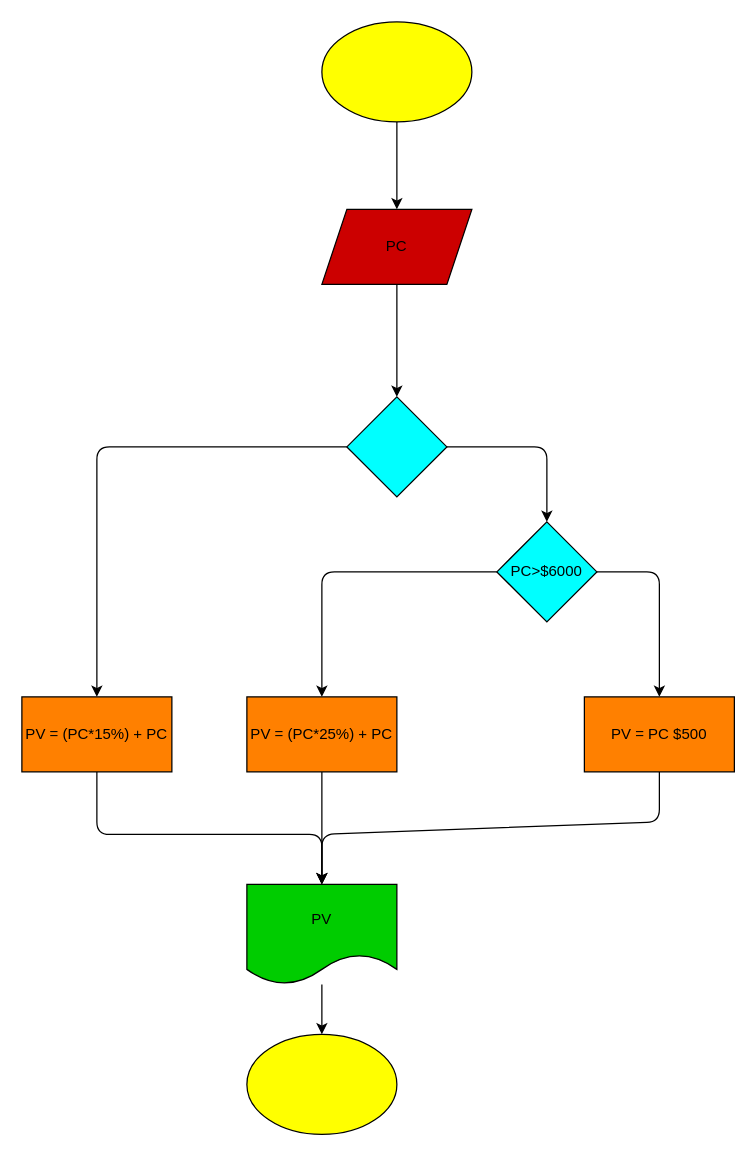
The diagram is 756 pixels wide and 1156 high, and some of its shapes have lost their labels. Each missing label, with the centre of its shape:
FIN: the point at 321,1083
INICIO: the point at 396,71
PC<$3000: the point at 396,446
